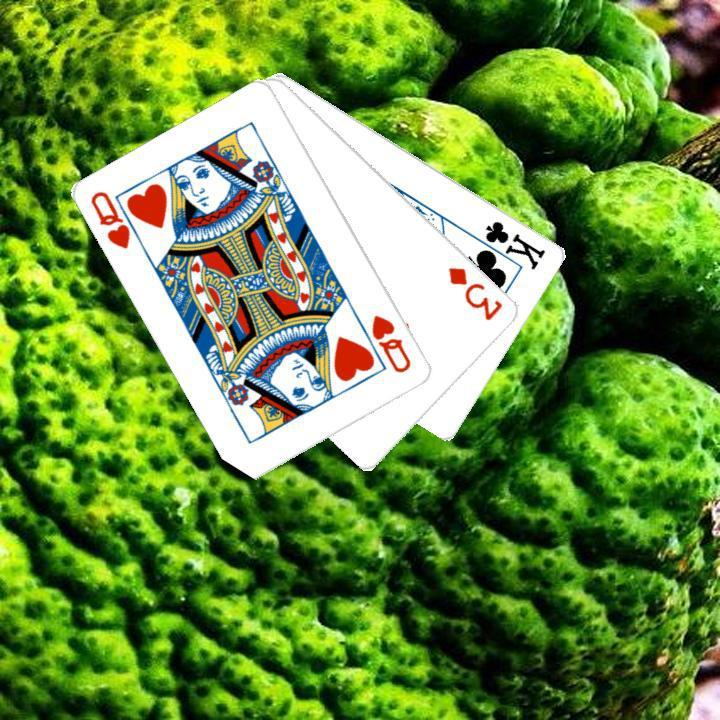3: (444, 262, 506, 323)
K: (468, 216, 548, 272)
Q: (86, 186, 148, 252), (367, 310, 414, 376)
